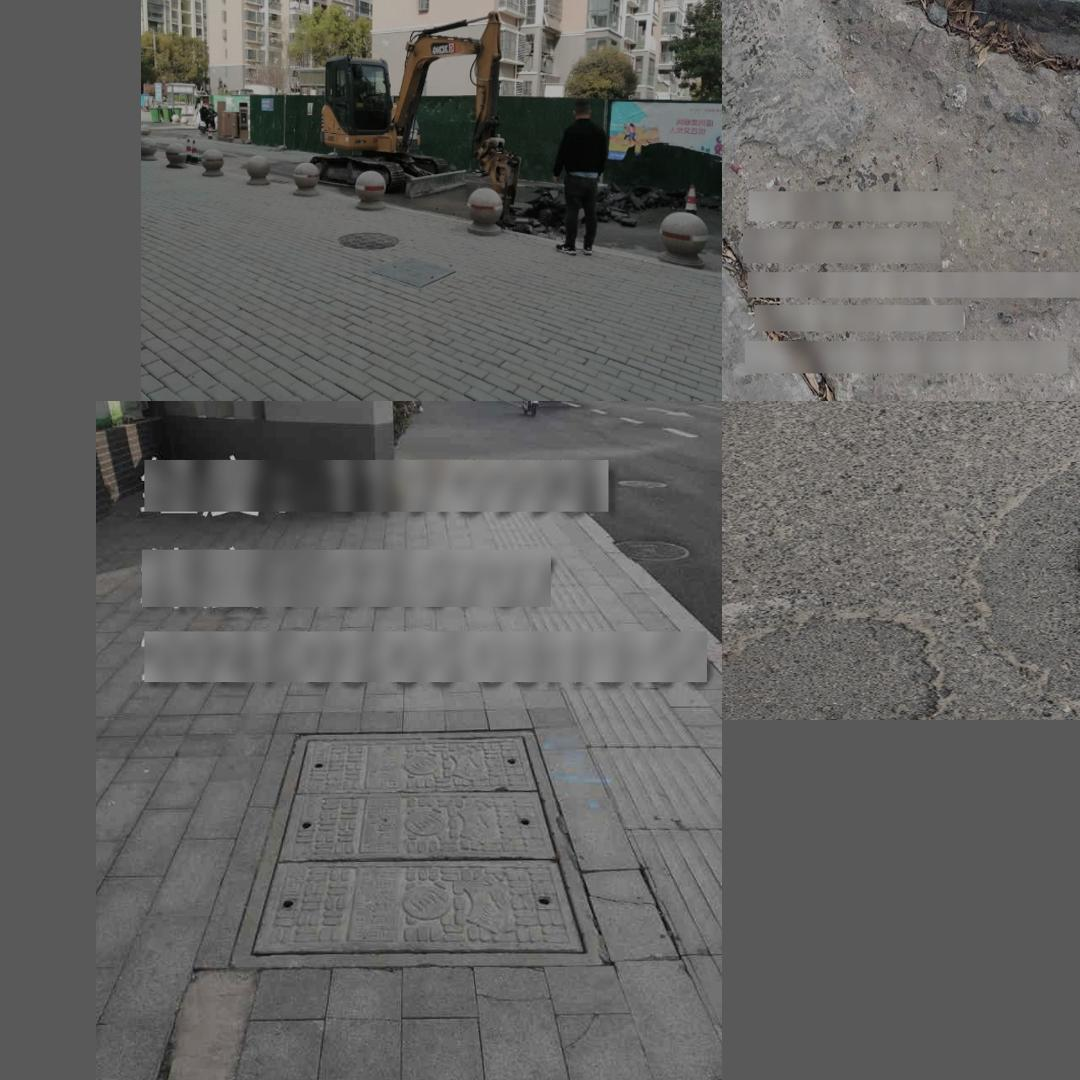good: (227, 729, 608, 969), (363, 255, 459, 287), (337, 233, 398, 249), (1076, 451, 1080, 676), (855, 0, 1080, 3)
